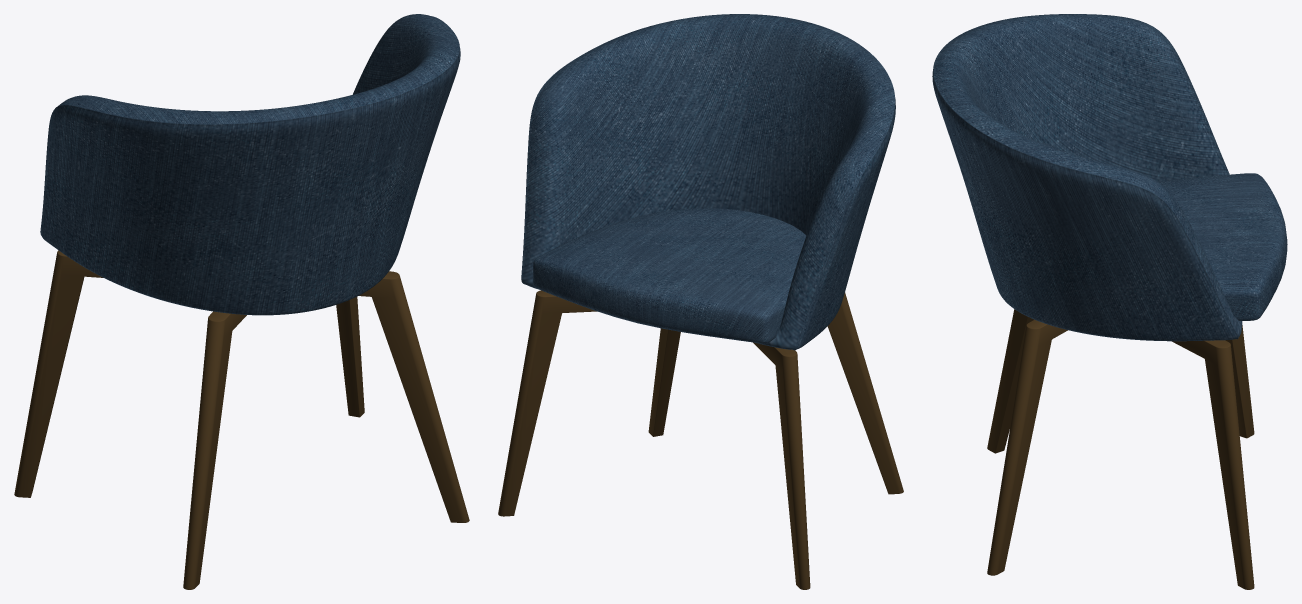
File: Sedia.fbx
The picture shows the model from 3 angles, left to right: view 1: azimuth 30°, elevation 25°; view 2: azimuth 150°, elevation 25°; view 3: azimuth 270°, elevation 25°; orthographic projection. The views are drawn at different scales.
Parts seen in each view (by area): view 1: Sedia1; view 2: Sedia1; view 3: Sedia1.
Part boxes in pixels (x1,y1,x2,y2): Sedia1: (14, 14, 469, 589); Sedia1: (498, 14, 903, 589); Sedia1: (932, 14, 1287, 589).
Bounding box in the file's own units: 91.04 × 112 × 81.69.
